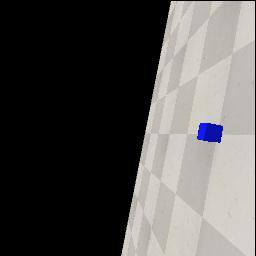box: (197, 123, 223, 143)
